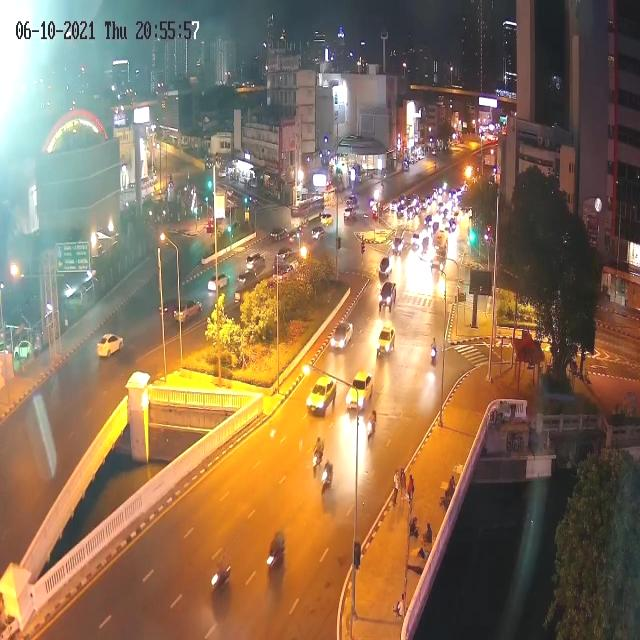Car: (306, 376, 338, 416), (346, 369, 374, 412), (330, 320, 354, 353), (96, 332, 124, 358), (376, 324, 396, 358), (175, 299, 202, 323), (378, 281, 397, 314), (207, 272, 229, 294), (159, 300, 182, 319), (246, 253, 266, 270), (378, 256, 392, 279), (237, 272, 257, 286), (311, 226, 325, 242), (320, 214, 334, 227), (343, 208, 356, 221), (411, 232, 420, 250), (424, 212, 433, 228), (345, 195, 358, 206), (447, 218, 458, 230), (396, 204, 405, 217), (436, 202, 446, 213), (447, 189, 457, 200), (398, 193, 406, 205), (389, 200, 397, 210)
Cycle: (264, 523, 284, 584), (208, 559, 233, 601), (364, 402, 380, 450), (320, 458, 336, 502), (312, 434, 326, 476), (430, 336, 439, 378)
Truck: (430, 228, 449, 274), (392, 227, 404, 256)
